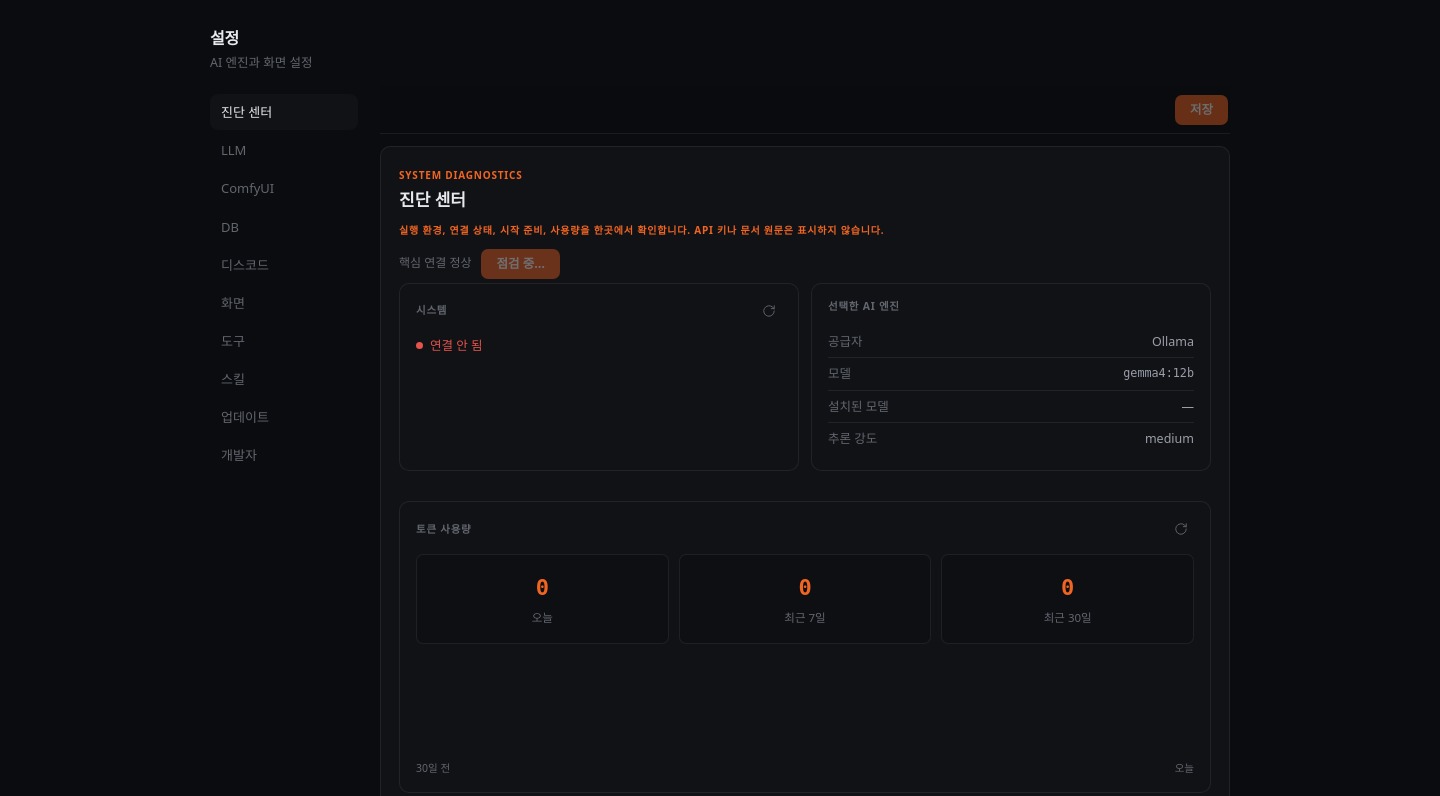
Test case: 저장소 보고 등록 › 폴더를 고르면 브랜치를 원격 추적 ref 로 미리 잡아 준다
The image size is (1440, 796).
Step 1. Click the button "디스코드" → point(284, 265), box left=210, top=247, right=358, bottom=283
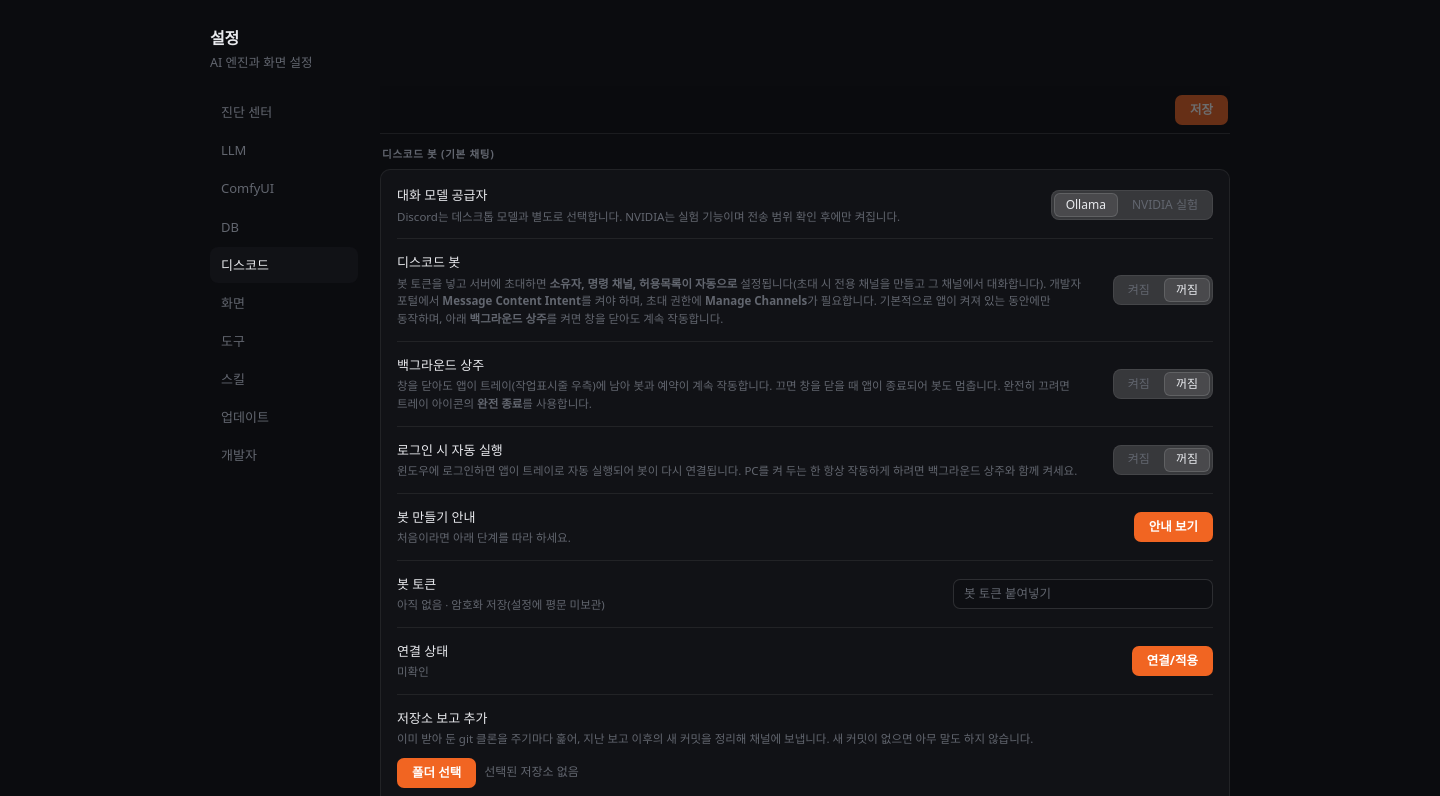
Step 2. Click the button "폴더 선택" → point(437, 772), box left=397, top=758, right=476, bottom=788
(page scrolled)
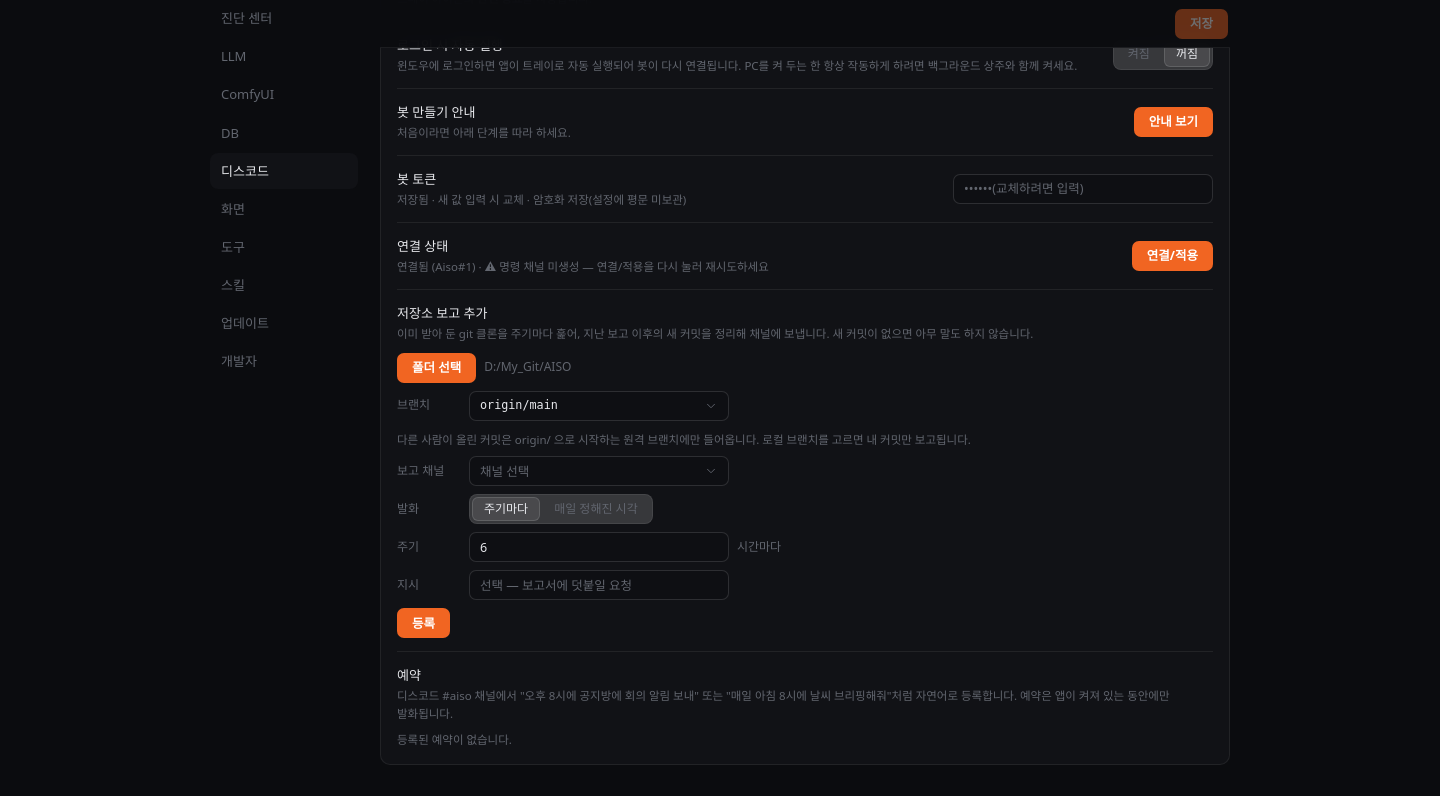
Expected: the text "D:/My_Git/AISO" is shown, left=484, top=358, right=571, bottom=377
Expected: the text "origin/main" is shown, left=480, top=396, right=558, bottom=415
